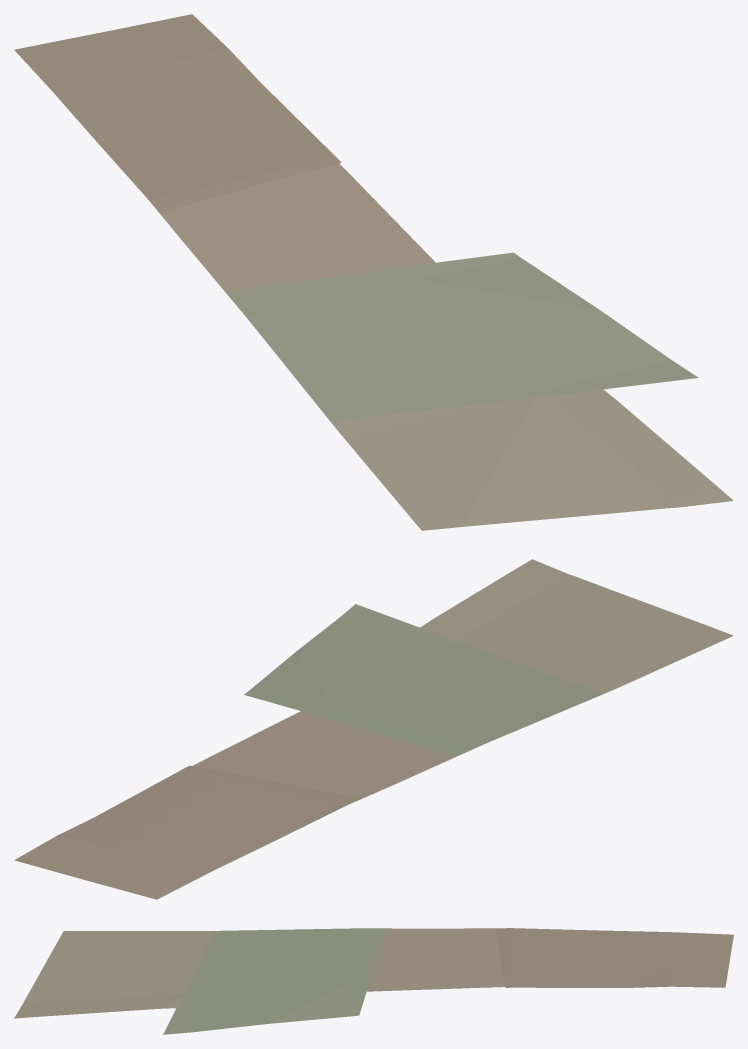
File: farm_-9_9_soil.glb
The picture shows the model from 3 angles, top to bottom: view 1: azimuth 30°, elevation 25°; view 2: azimuth 150°, elevation 25°; view 3: azimuth 270°, elevation 25°; orthographic projection. The views are drawn at different scales.
Parts seen in each view (by area): view 1: geometry_0; view 2: geometry_0; view 3: geometry_0.
Boxes of the visible parts, x1,y1,x2,y2 form: geometry_0: (14,14,733,530); geometry_0: (14,559,733,899); geometry_0: (14,928,733,1034).
Bounding box in the file's own units: 129 × 22.21 × 361.
